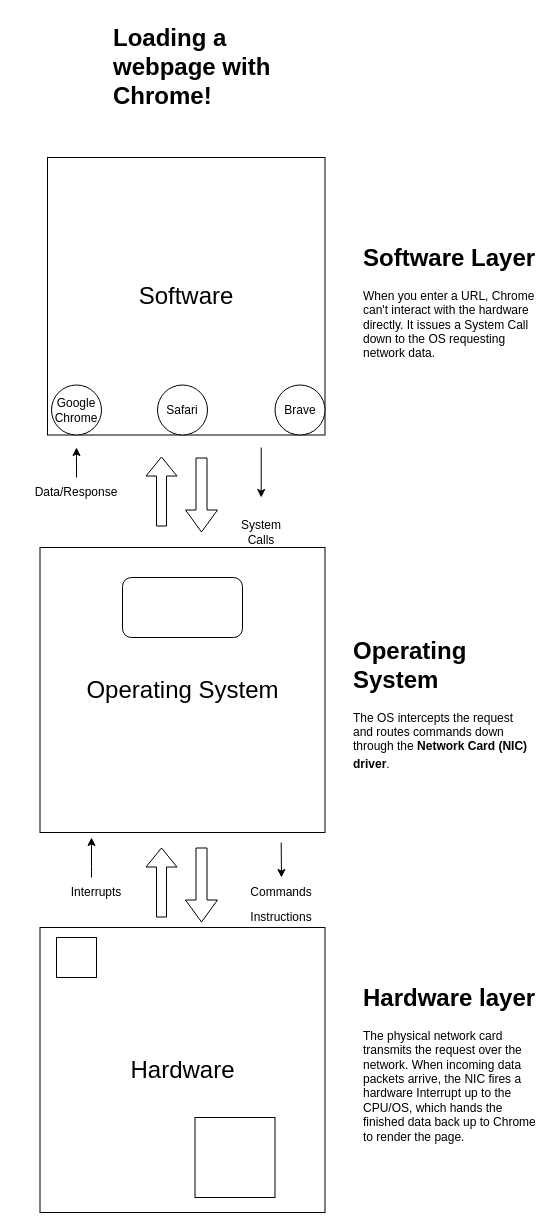
The diagram is 559 pixels wide and 1230 high, and some of its shapes have lost their labels. The centre of each missing label's shape, as x and y in pixels:
CPU: (x=234, y=1157)
NIC: (x=76, y=957)
Windows 11: (x=182, y=607)
